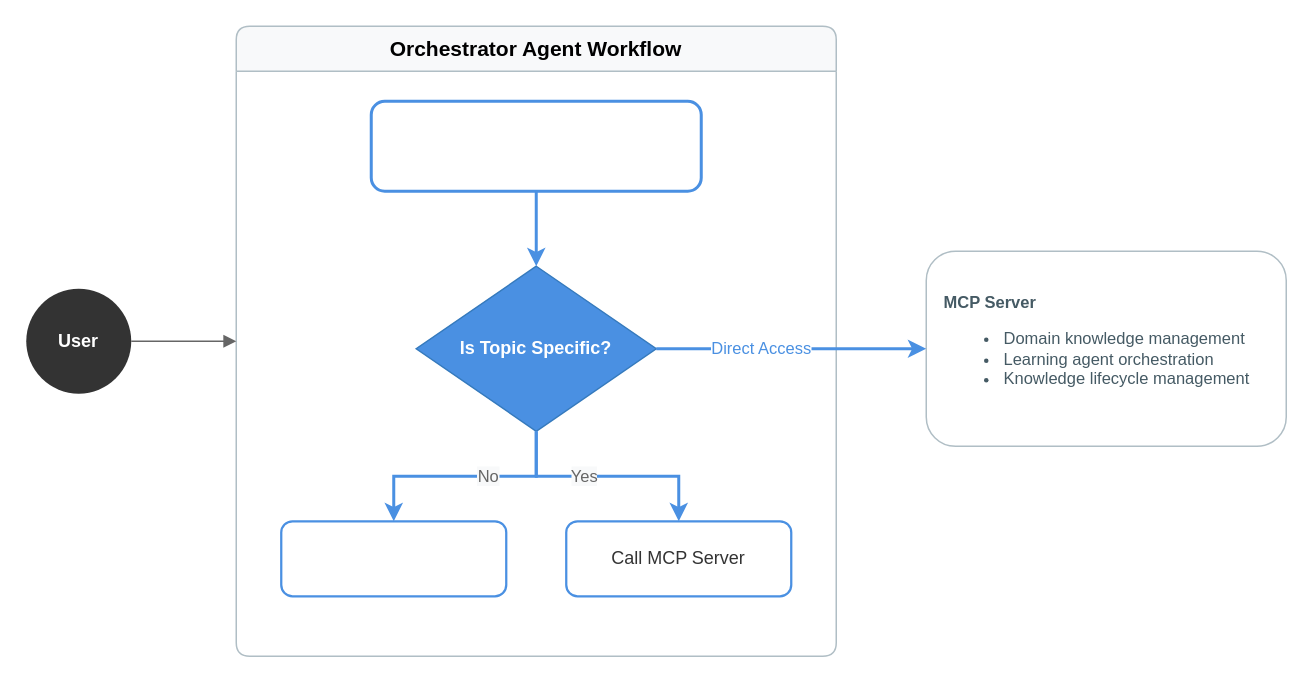
Image size: 1313x683. Some labels were removed from this diagram. The centre of each missing label's shape, as x and y in pixels:
"Suggest Subtopics" belongs at (393,558).
"User Provides Topic" belongs at (535,145).
